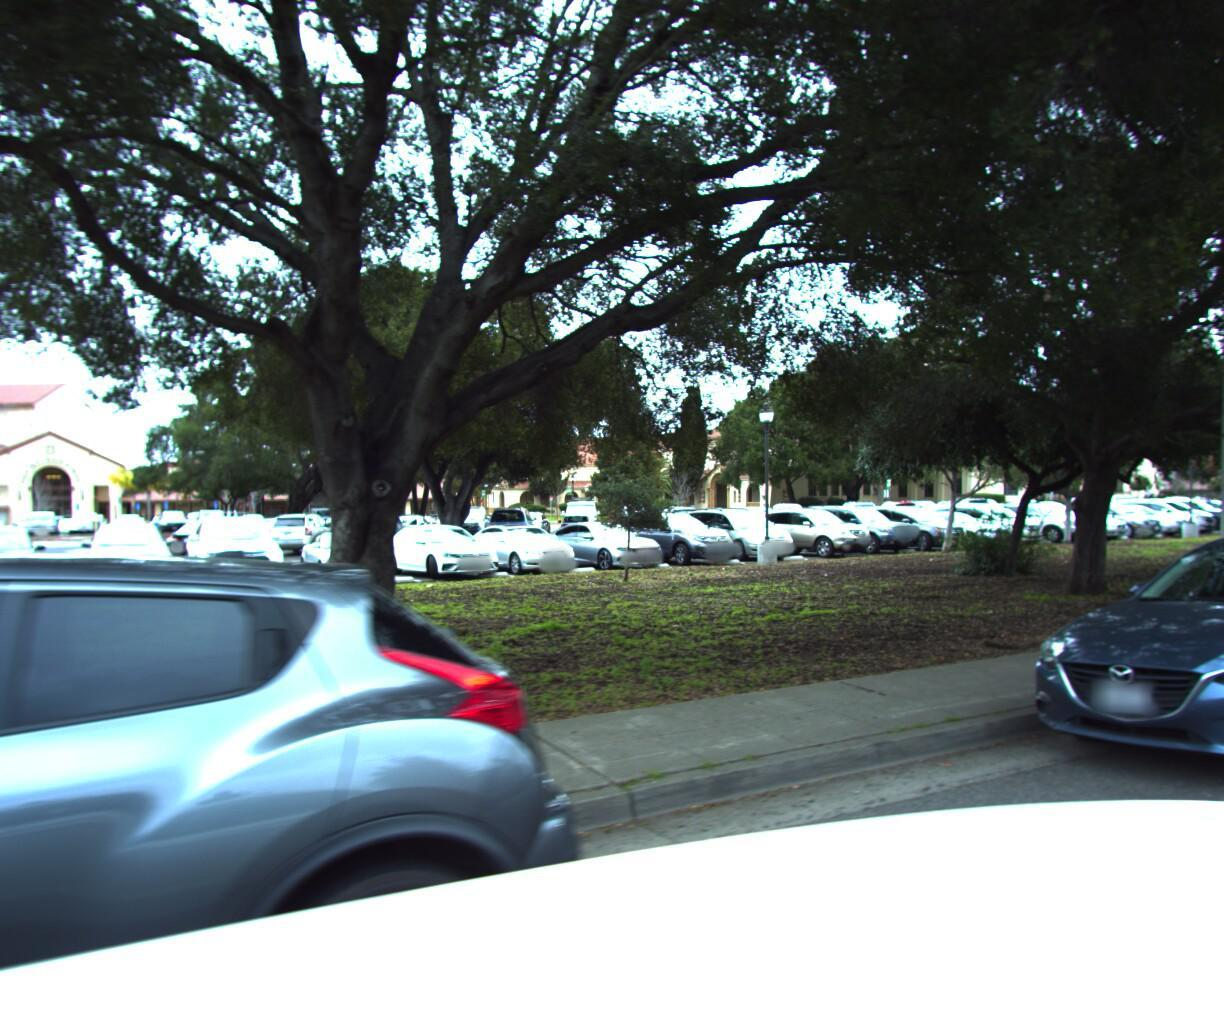car: (0, 536, 611, 1024), (991, 513, 1224, 831)
